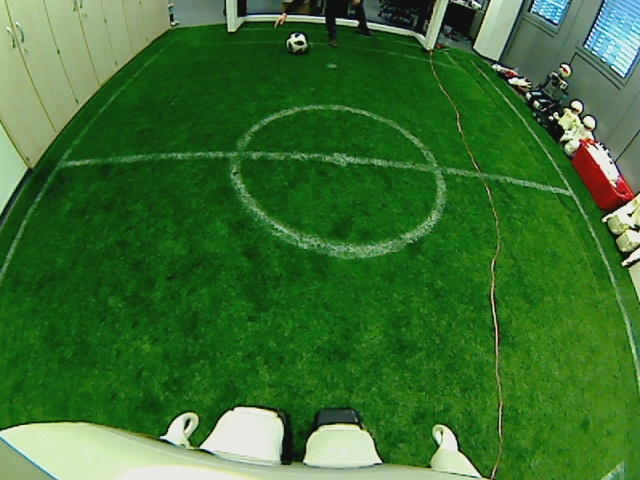ball: (285, 31, 309, 55)
